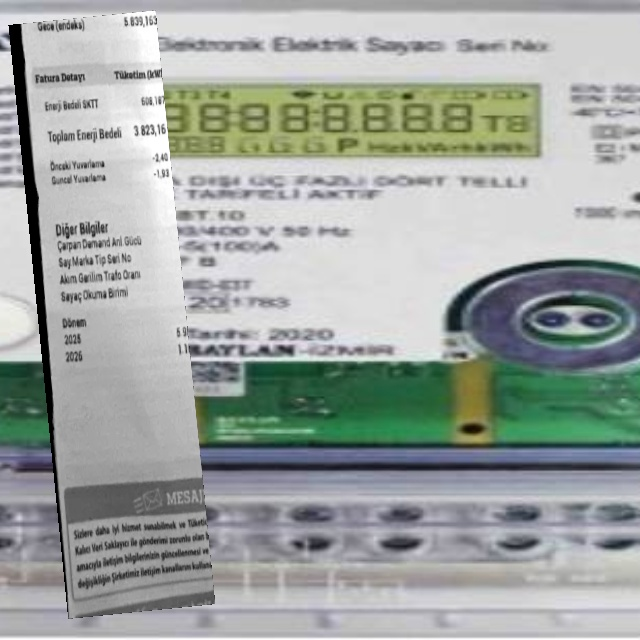electricity-bill: (7, 10, 214, 618)
